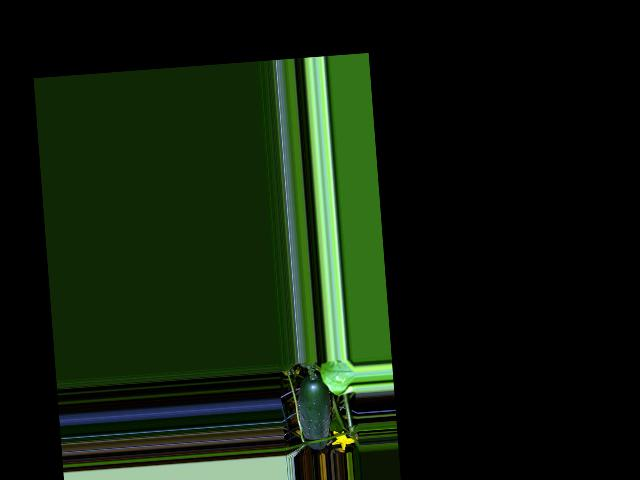cucumber: (295, 371, 333, 450)
